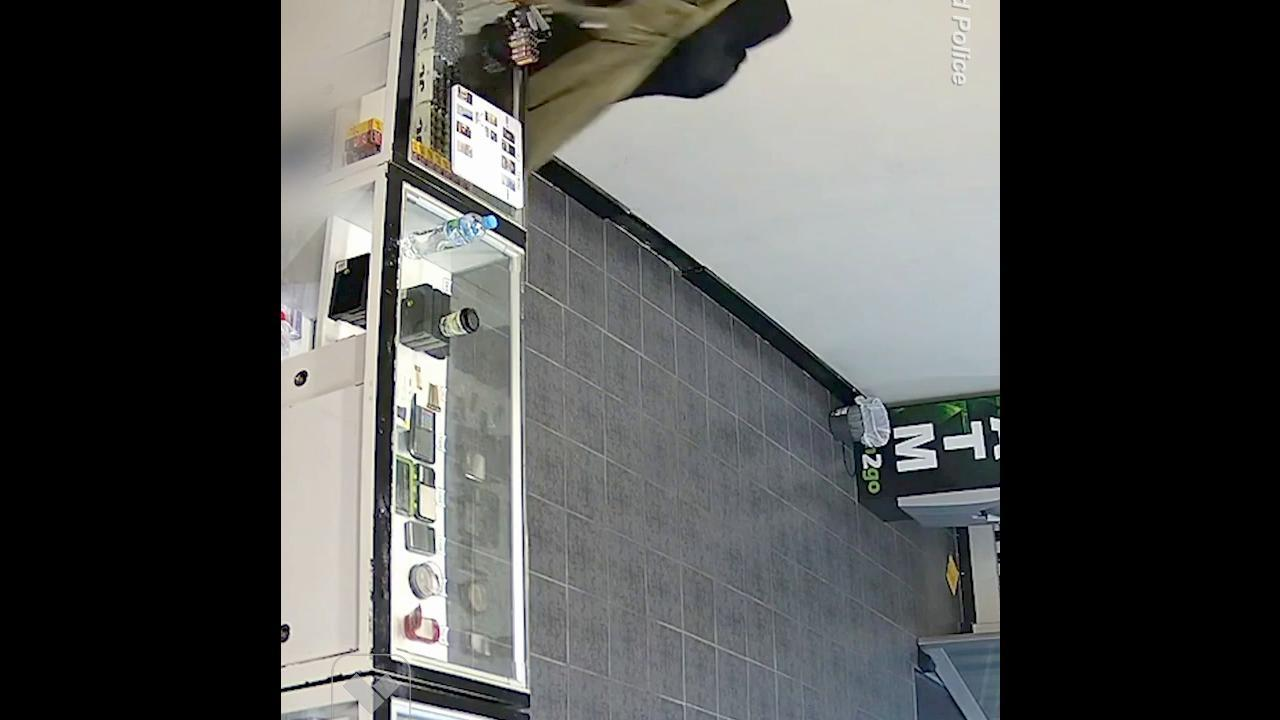melee: (648, 0, 804, 38)
